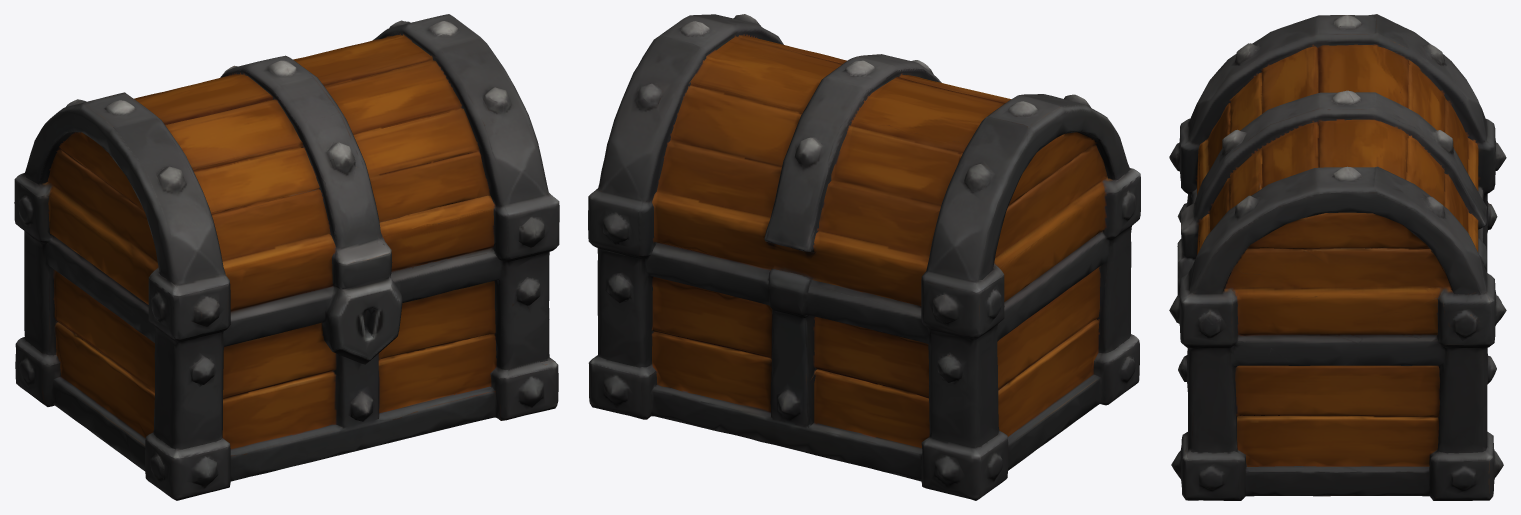
Rendered from chest.glb.
3 views of the same model, side by side, from view 1: azimuth 30°, elevation 25°; view 2: azimuth 150°, elevation 25°; view 3: azimuth 270°, elevation 25° (orthographic). The views are drawn at different scales.
Parts seen in each view (by area): view 1: geometry_0; view 2: geometry_0; view 3: geometry_0.
Part boxes in pixels (bbox=[...]): geometry_0: bbox=[14, 14, 559, 500]; geometry_0: bbox=[588, 14, 1140, 500]; geometry_0: bbox=[1169, 14, 1506, 500].
Size of the model in its own units: 1 by 0.8117 by 0.7725.
1 material, 1 textured.
